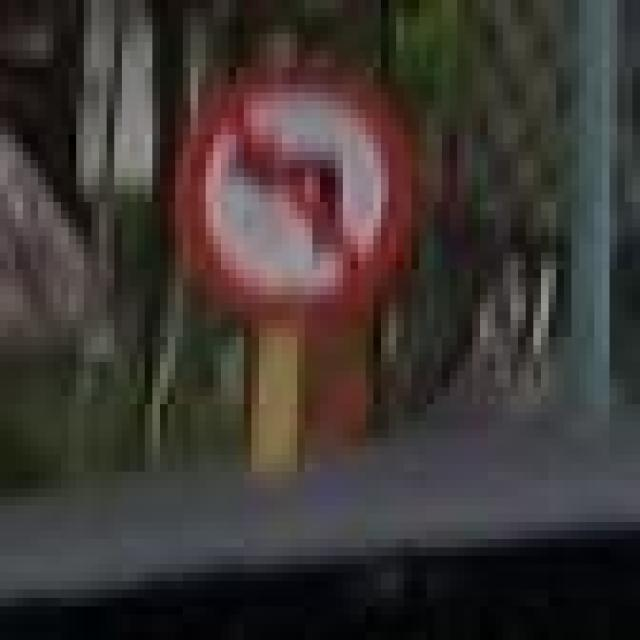traffic sign: (176, 68, 412, 312)
